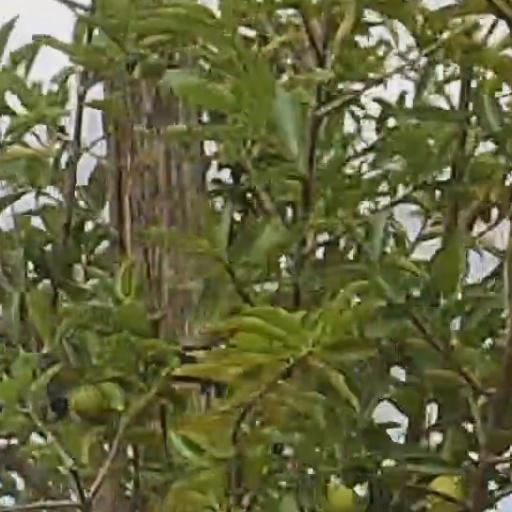acerola_verde: (428, 475, 466, 510), (73, 389, 105, 418), (331, 484, 366, 509)
